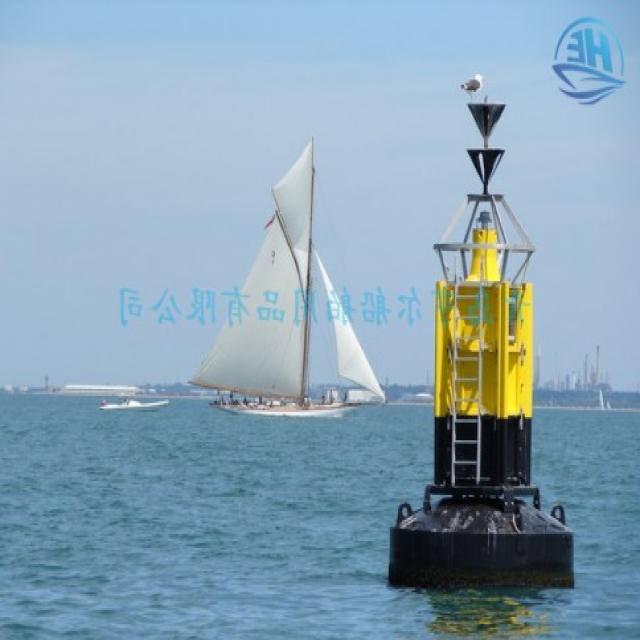buoy: (390, 53, 582, 579)
sailboat: (198, 132, 385, 416)
